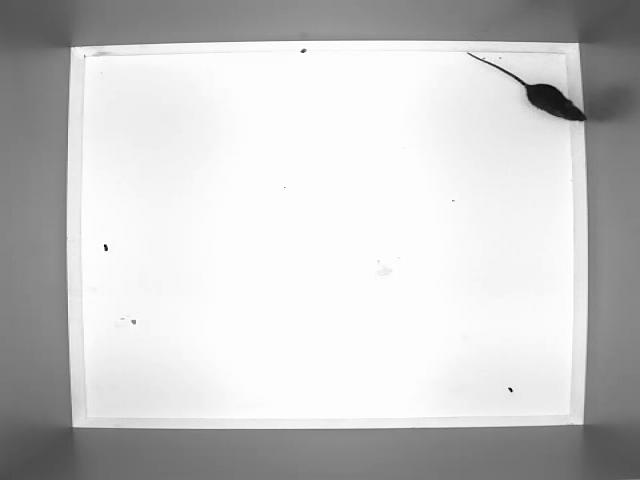Tikus: (466, 52, 590, 123)
